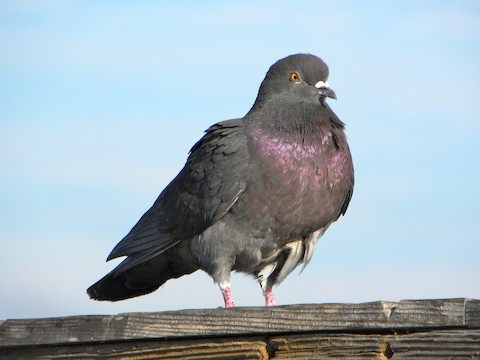pigeon: (84, 46, 359, 315)
